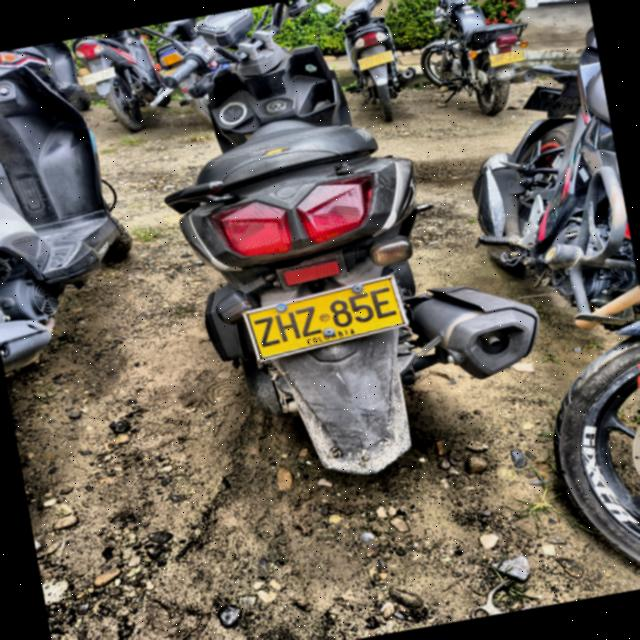plate: (244, 276, 407, 361)
